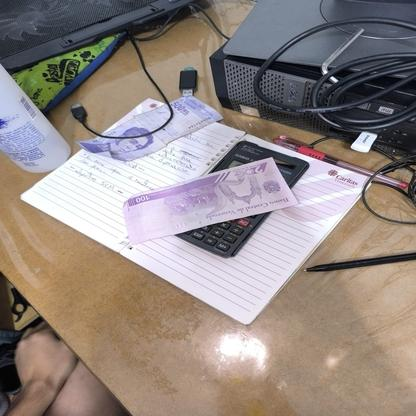one_hundred-back-vef: (122, 155, 300, 245)
